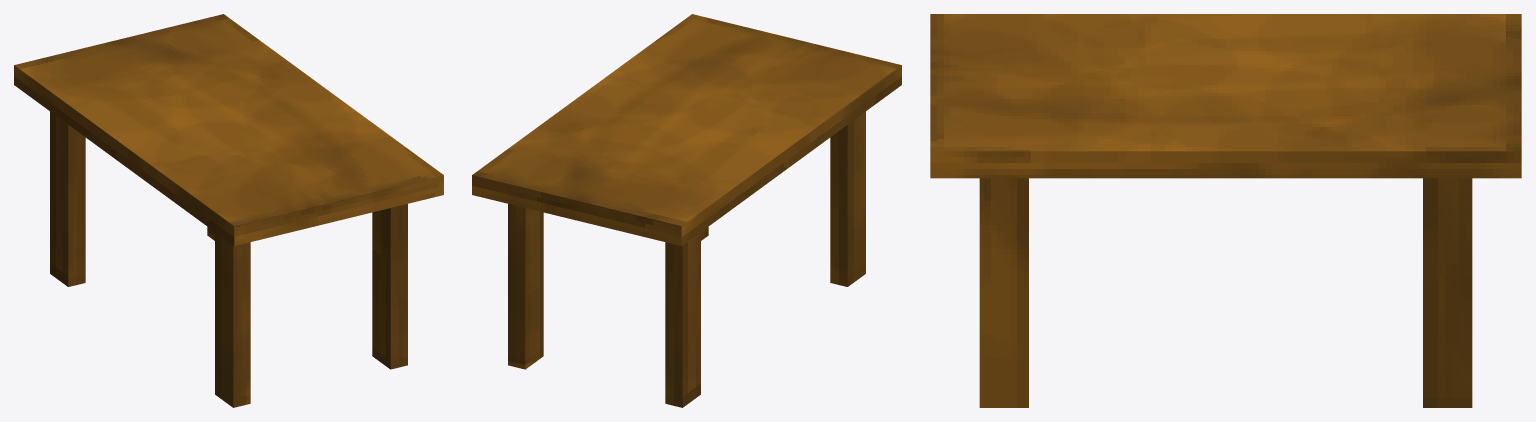
The model's file is table.glb.
3 renders of one model, left to right at view 1: azimuth 30°, elevation 25°; view 2: azimuth 150°, elevation 25°; view 3: azimuth 270°, elevation 25°, orthographic. The views are drawn at different scales.
Visible parts, largest first — view 1: Table; view 2: Table; view 3: Table.
Boxes of the visible parts, x1,y1,x2,y2 form: Table: [14, 14, 443, 407]; Table: [472, 14, 901, 407]; Table: [930, 14, 1521, 407].
Bounding box in the file's own units: 1.1 × 1 × 2.
Materials: 1 (1 with a texture image).
